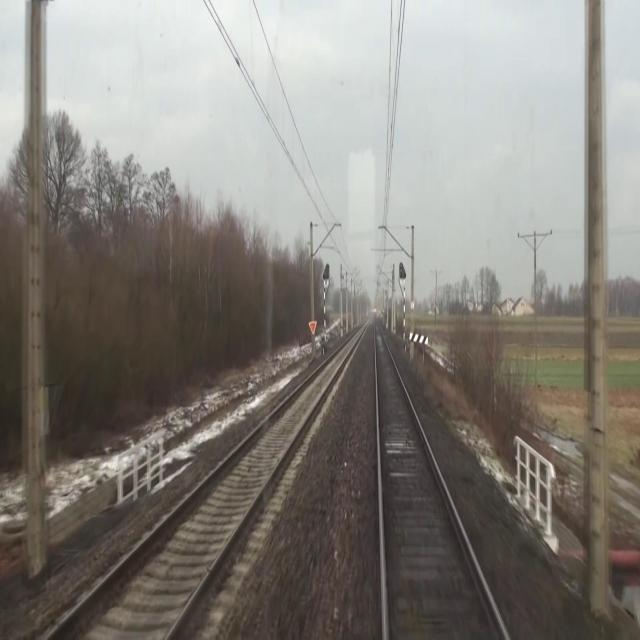rail-track: (50, 326, 363, 639), (376, 322, 505, 639)
